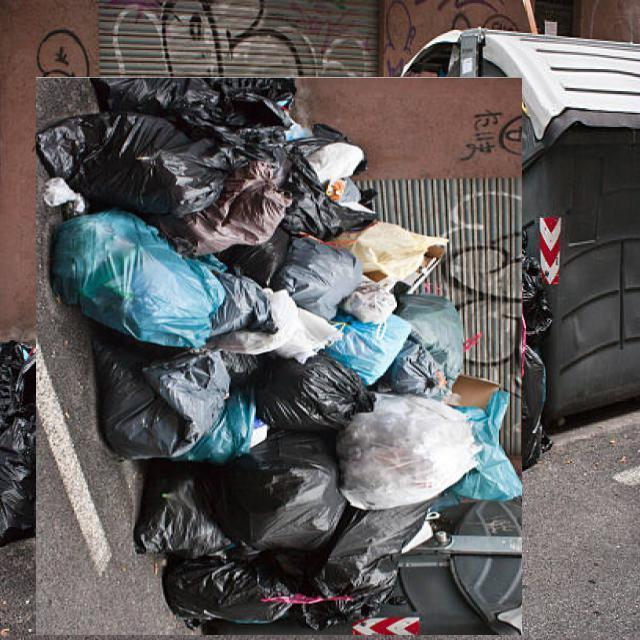Trashbag: (40, 107, 245, 218), (100, 328, 230, 466), (228, 440, 352, 558), (134, 461, 231, 568), (281, 126, 371, 240), (157, 553, 289, 628), (283, 555, 404, 633), (103, 80, 290, 123), (263, 360, 375, 427)
